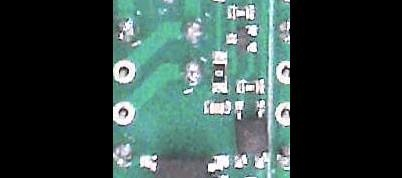chip-capacitor: (200, 99, 232, 117)
chip-resistor: (209, 50, 229, 95), (233, 75, 264, 97), (225, 3, 256, 22)
ic: (133, 149, 230, 178), (232, 98, 268, 172)
transistor: (224, 22, 260, 55)
